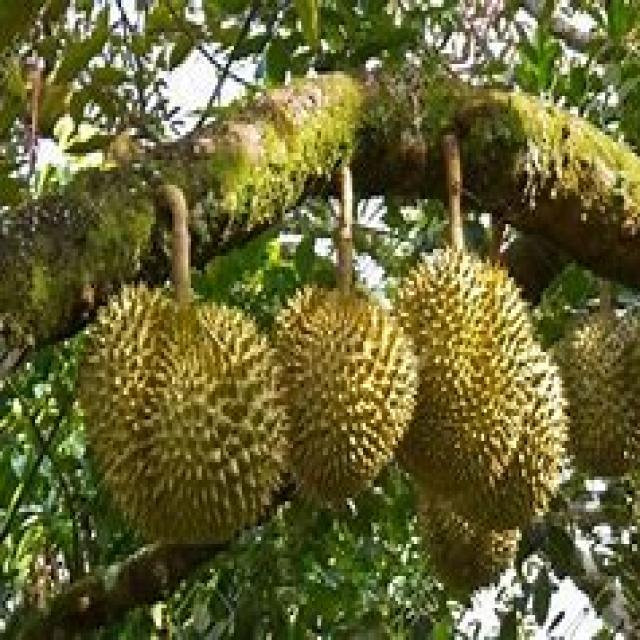mature: (80, 284, 288, 541), (399, 248, 532, 512), (278, 288, 419, 502)
